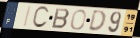9: (106, 11, 123, 34)
B: (51, 7, 71, 30)
C: (31, 6, 50, 30)
D: (87, 10, 107, 33)
I: (23, 5, 33, 28)
O: (70, 9, 88, 32)
